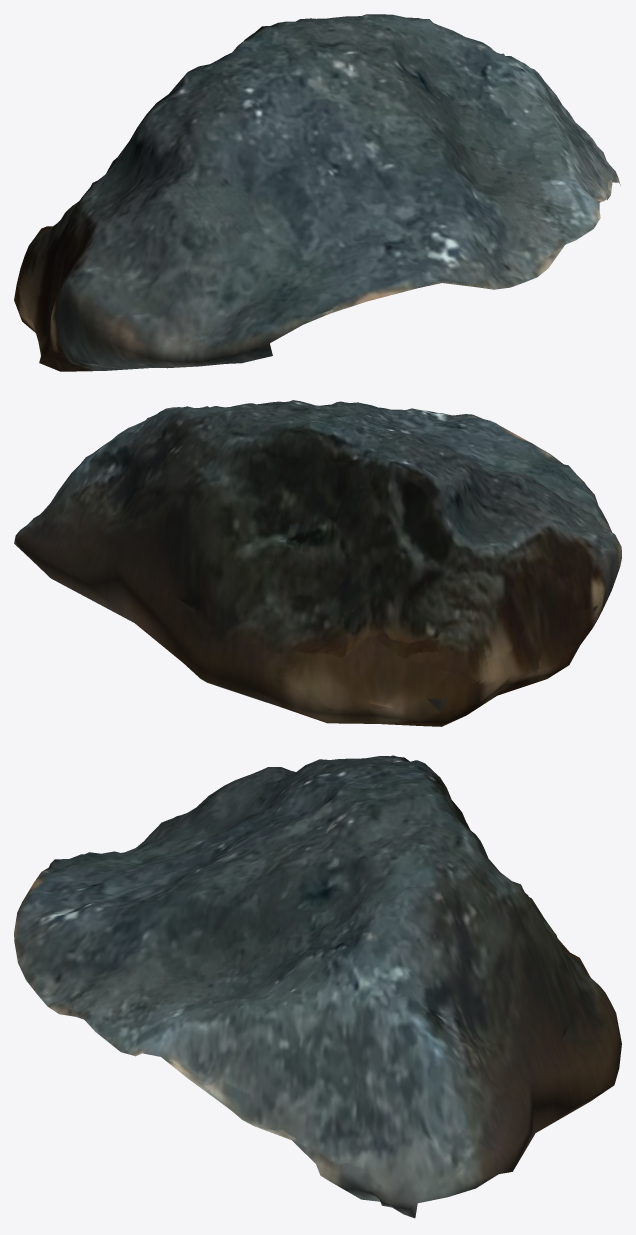
Rendered from stone.gltf.
3 views of the same model, one above another, from view 1: azimuth 30°, elevation 25°; view 2: azimuth 150°, elevation 25°; view 3: azimuth 270°, elevation 25° (orthographic). The views are drawn at different scales.
Visible parts, largest first — view 1: baked_mesh; view 2: baked_mesh; view 3: baked_mesh.
Part boxes in pixels (bbox=[...]): baked_mesh: bbox=[14, 14, 620, 371]; baked_mesh: bbox=[14, 400, 621, 726]; baked_mesh: bbox=[14, 755, 621, 1218].
Size of the model in its own units: 0.2516 by 0.1094 by 0.1915.
Materials: 1 (1 with a texture image).
